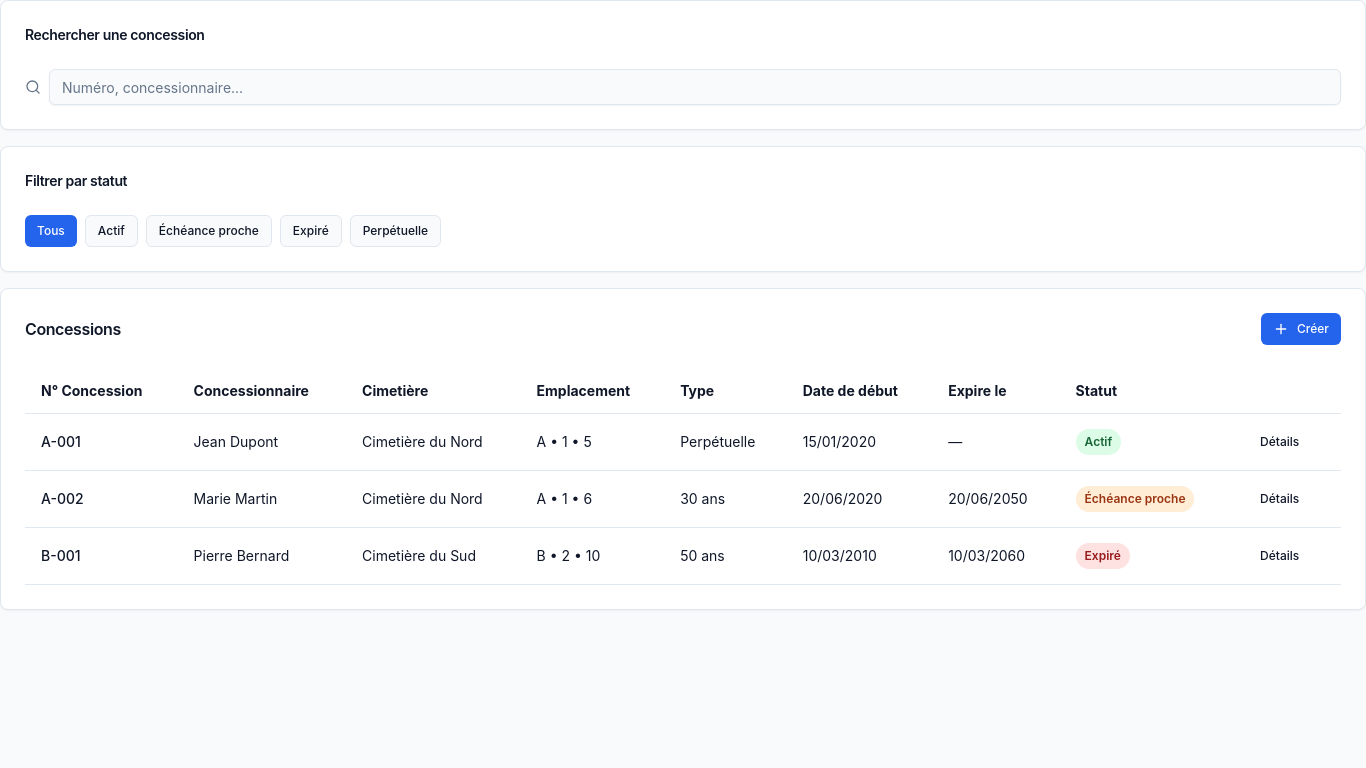
Test: ConcessionsPage › filtre par statut ECHEANCE_PROCHE
Expected: the text "A-001" is shown, [25,414,178,470]
Click the button "Échéance proche" at (209, 231), box [146,215,272,247]
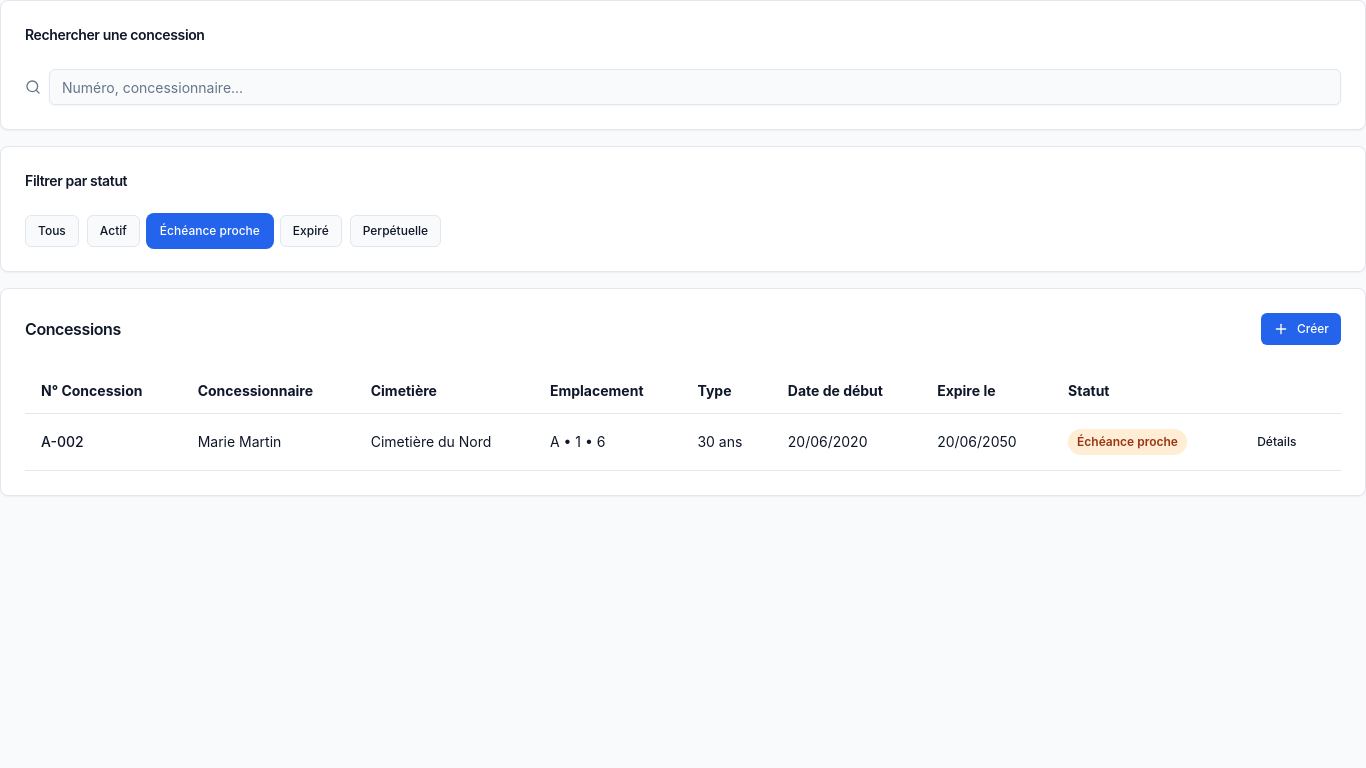
Expected: the text "A-002" is shown, [25,414,182,470]
Expected: the text "A-001" is gone
Expected: the text "B-001" is gone
